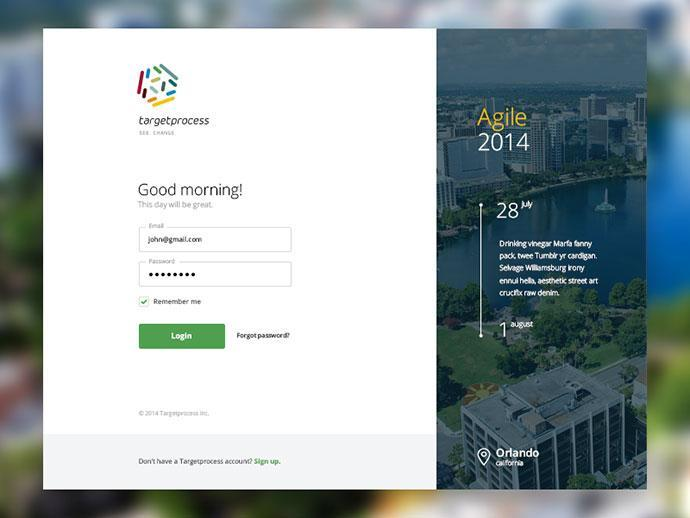button: (140, 325, 227, 350)
checkbox: (139, 296, 151, 308)
input: (140, 227, 294, 252), (140, 263, 292, 288)
label: (153, 298, 203, 307)
